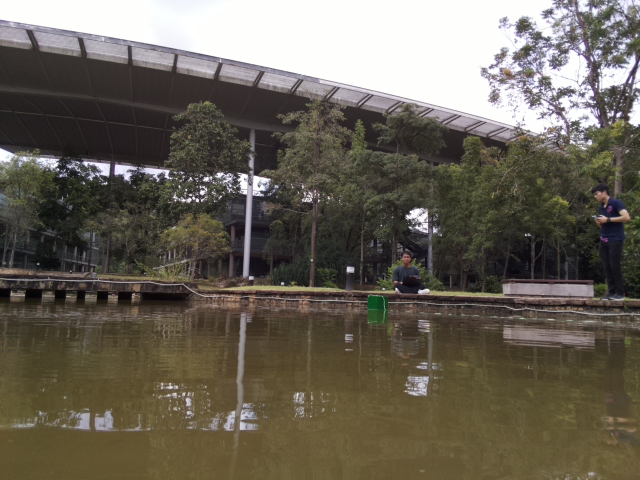obstacle: (366, 294, 390, 314)
